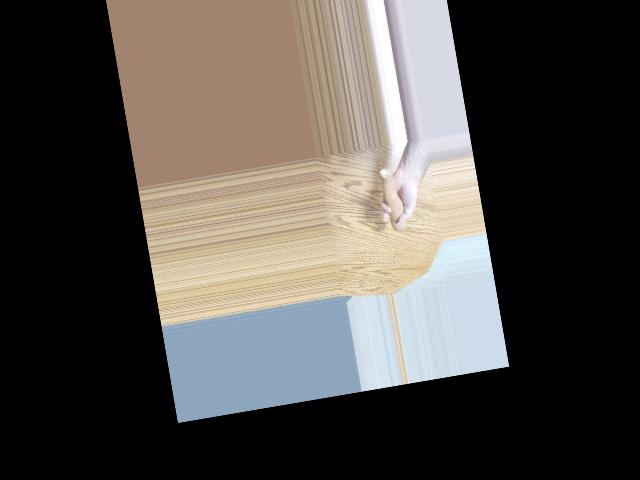sweet_potato: (376, 164, 404, 237)
